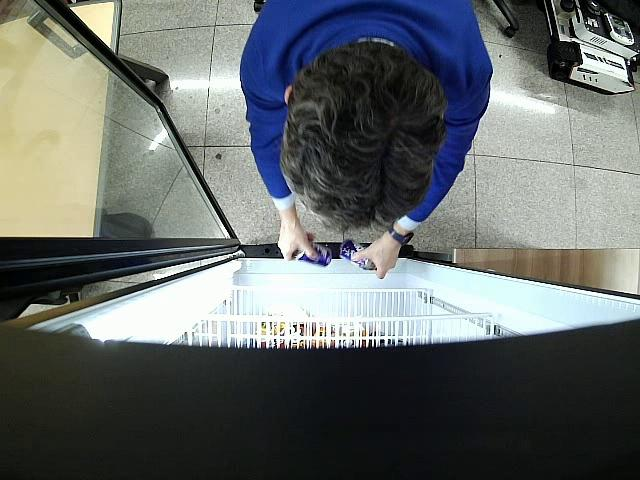00_hand: (353, 235, 401, 280), (278, 213, 319, 261)
14_welchsGrape: (341, 239, 374, 269), (292, 243, 330, 267)
